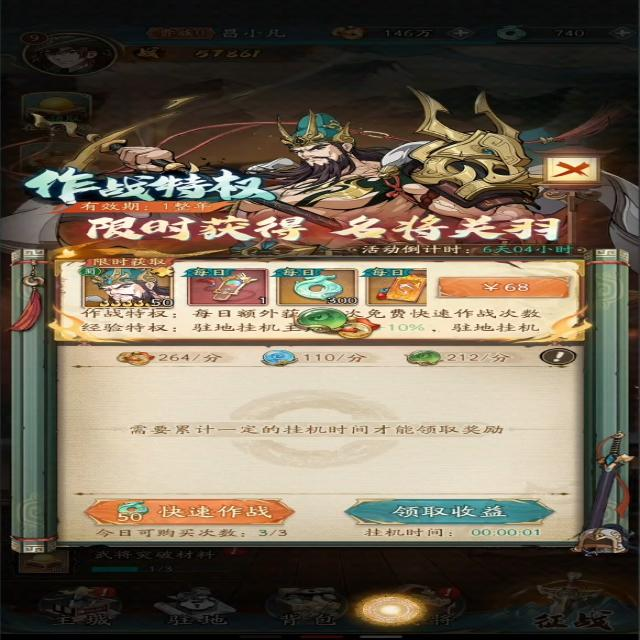navigation-fight: (83, 498, 295, 525)
operation-buy: (430, 272, 576, 298)
operation-close: (544, 154, 605, 184)
operation-confirm: (336, 495, 561, 527)
